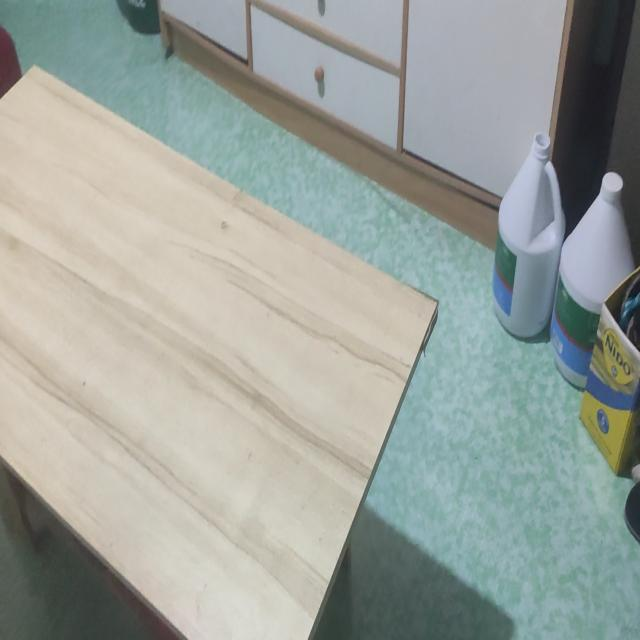table: (0, 61, 434, 640)
